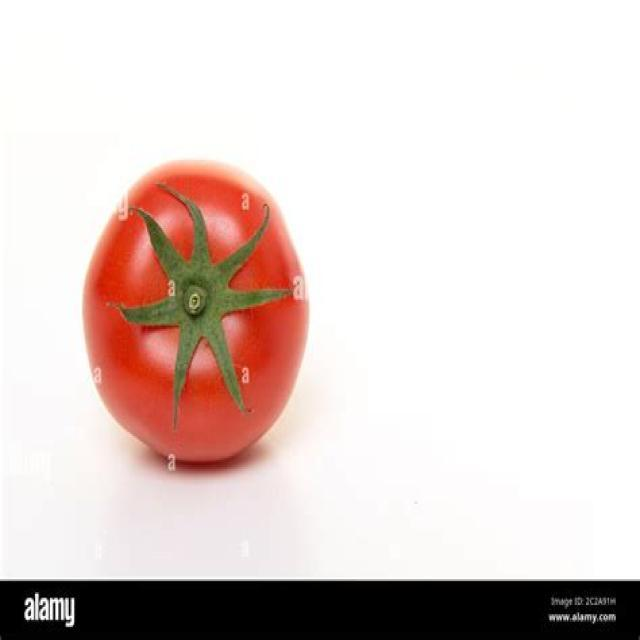Tomato: (87, 164, 308, 467)
